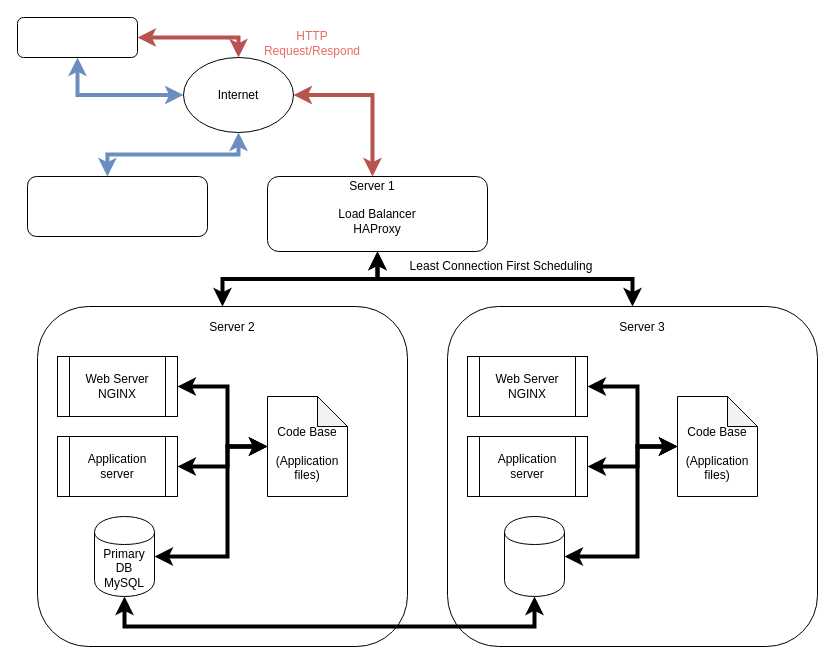
The diagram is 835 pixels wide and 664 high, and some of its shapes have lost their labels. Each missing label, with the centre of its shape:
DNS "www.foobar.com" = IP(8.8.8.8): pixel 117 206
Replica DB MySQL: pixel 534 556
Web Browser www.foobar.com: pixel 77 37
